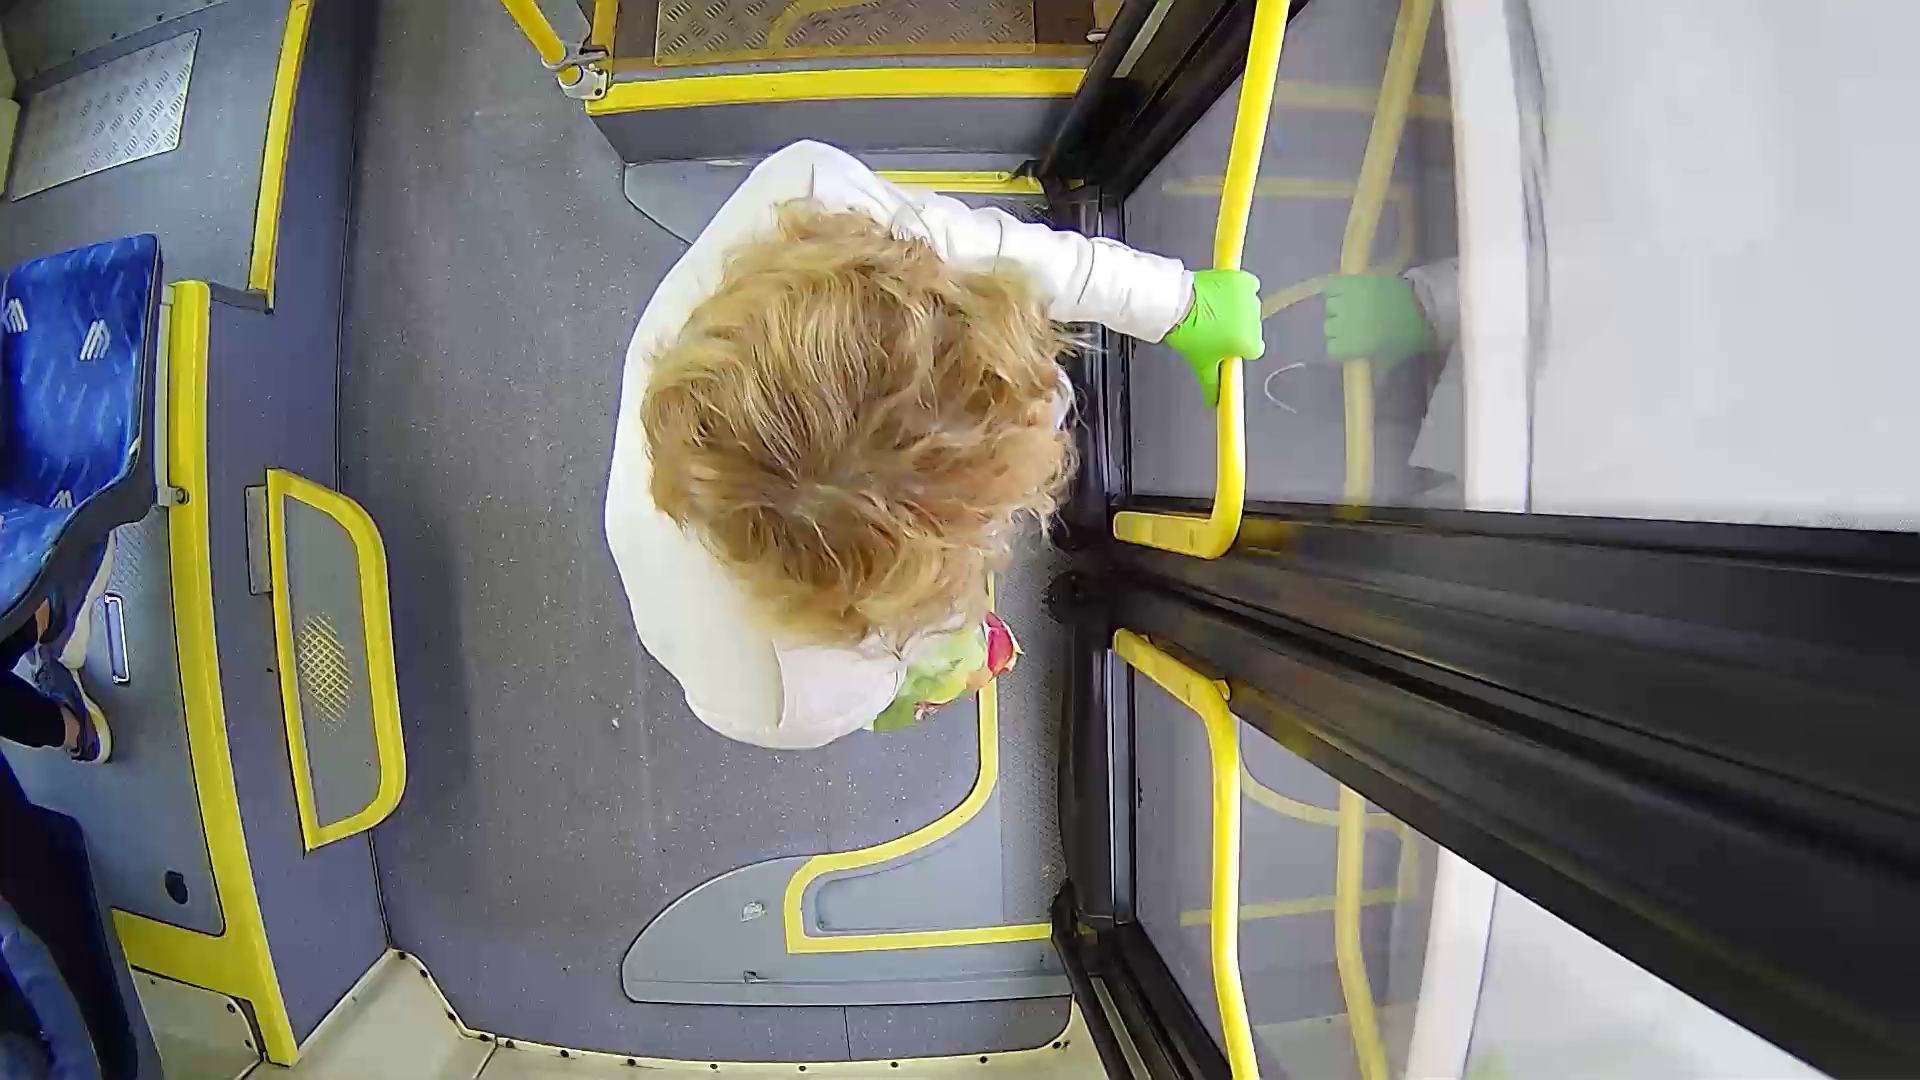person: (523, 142, 1306, 724)
